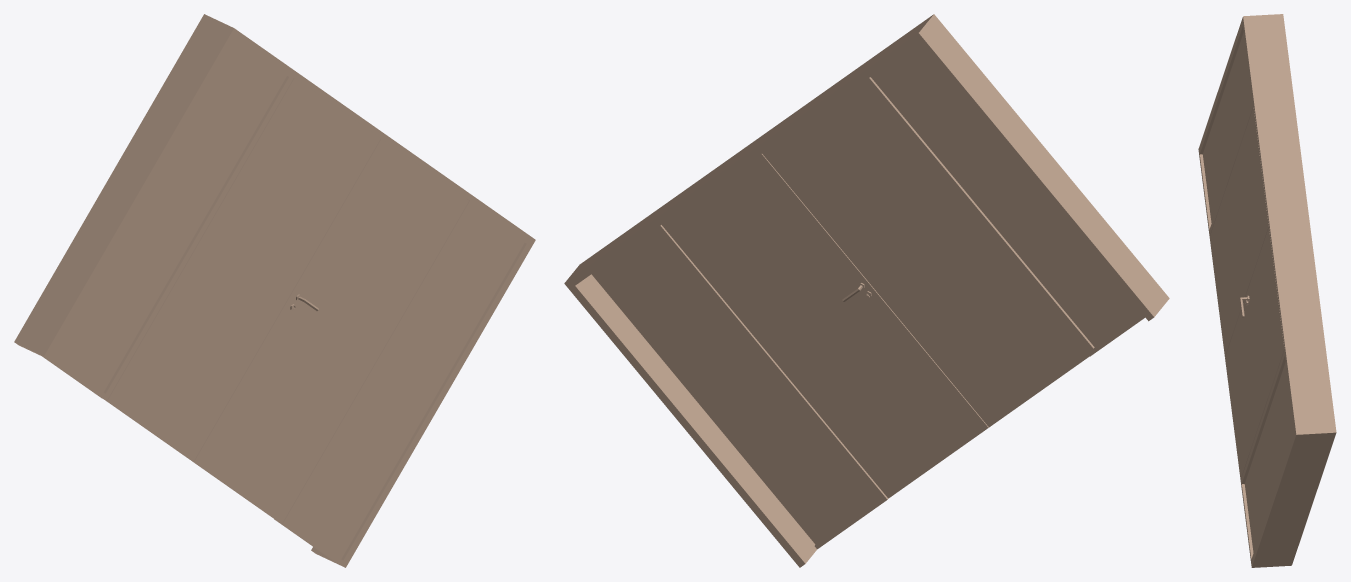
3 views of the same model, side by side, from view 1: azimuth 30°, elevation 25°; view 2: azimuth 150°, elevation 25°; view 3: azimuth 270°, elevation 25° (orthographic). The views are drawn at different scales.
Visible parts, largest first — view 1: mesh; view 2: mesh; view 3: mesh.
Part boxes in pixels (x1,y1,x2,y2): mesh: [14, 14, 535, 567]; mesh: [564, 14, 1169, 567]; mesh: [1198, 14, 1336, 567].
Size of the model in its own units: 3.44 by 3.4 by 0.8457.
